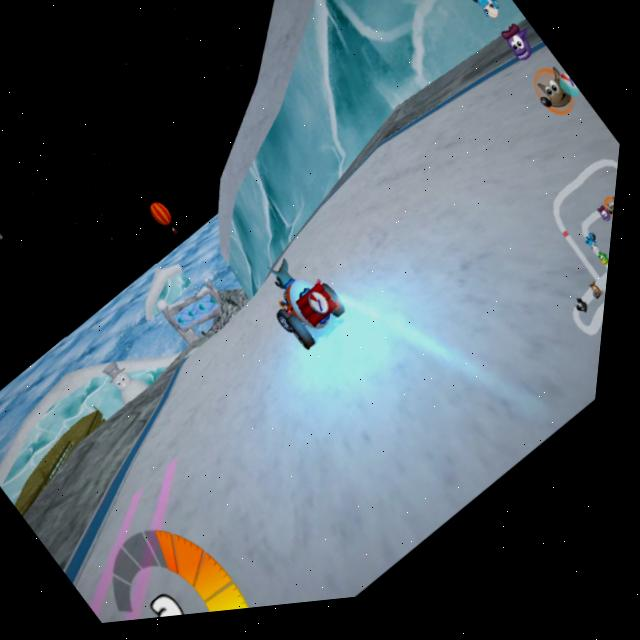player_kart: (250, 244, 369, 372)
track: (185, 292, 314, 423)
